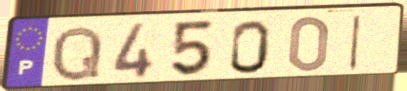0: (284, 15, 331, 75), (228, 18, 274, 76)
4: (111, 21, 157, 81)
5: (170, 17, 218, 79)
I: (346, 12, 365, 72)
Q: (49, 23, 106, 83)
